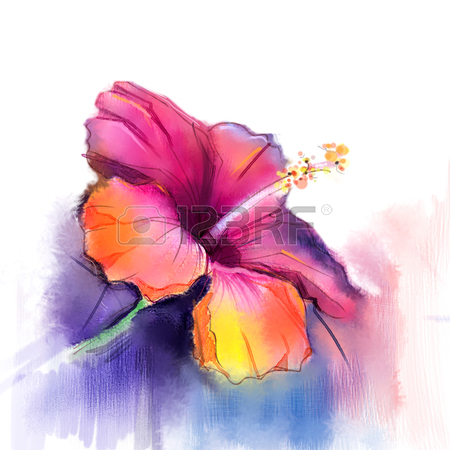Hibiscus: (80, 70, 382, 389)
